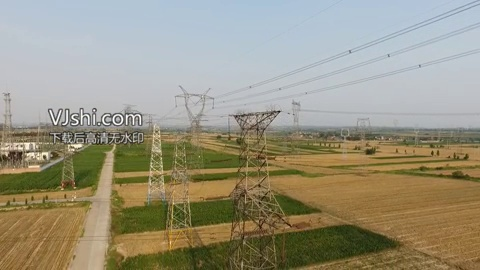tower_body: (223, 107, 289, 270), (166, 132, 198, 252), (147, 122, 166, 205)
tower_foot: (226, 235, 283, 270)
tower_head: (174, 85, 217, 120), (227, 109, 285, 130)
